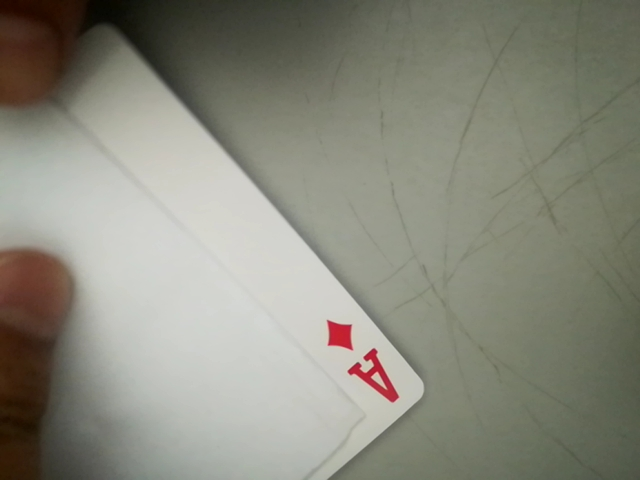fk a: (314, 312, 411, 412)
